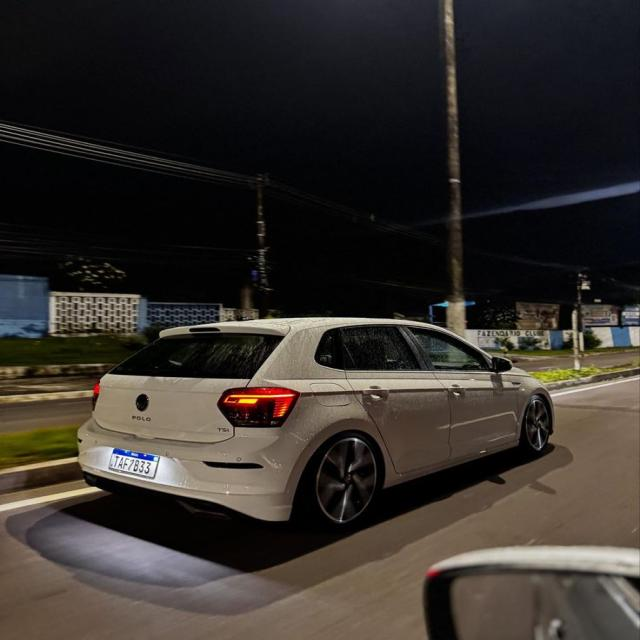Placas: (111, 445, 161, 481)
